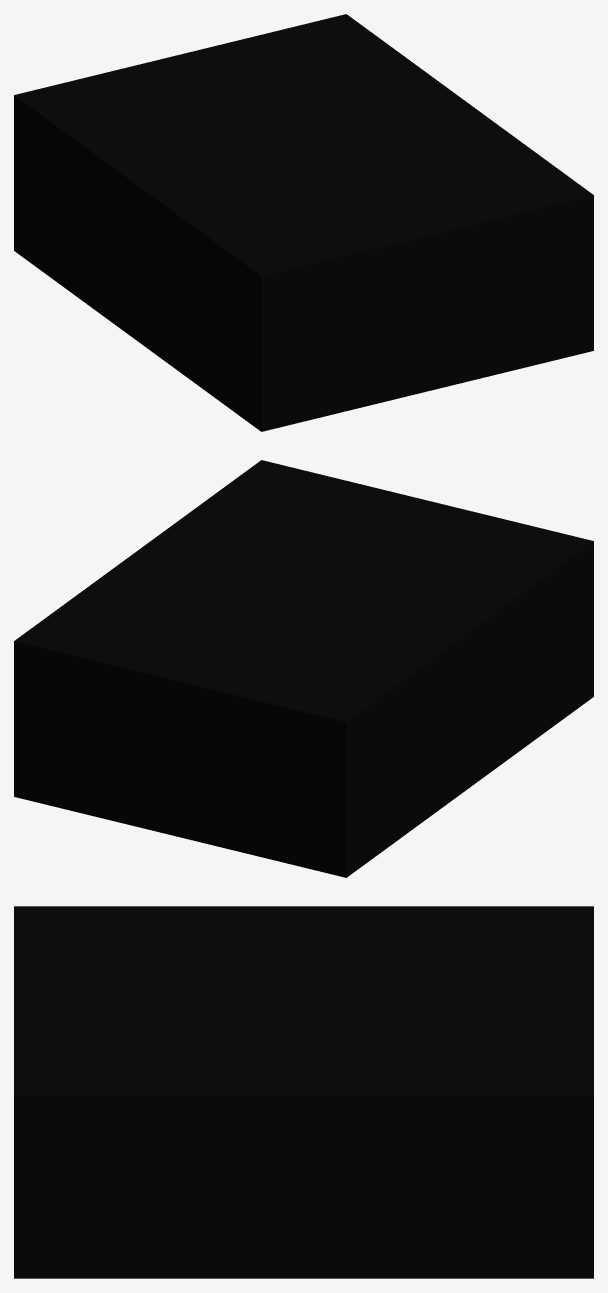
The model's file is Elevator.glb.
The picture shows the model from 3 angles, top to bottom: view 1: azimuth 30°, elevation 25°; view 2: azimuth 150°, elevation 25°; view 3: azimuth 270°, elevation 25°; orthographic projection. The views are drawn at different scales.
Parts seen in each view (by area): view 1: Elevator; view 2: Elevator; view 3: Elevator.
Part boxes in pixels (left/top/right/bottom): Elevator: left=14, top=14, right=593, bottom=431; Elevator: left=14, top=460, right=593, bottom=877; Elevator: left=14, top=906, right=593, bottom=1278.
Bounding box in the file's own units: 76 × 34 × 98.
Materials: 1 (1 with a texture image).
